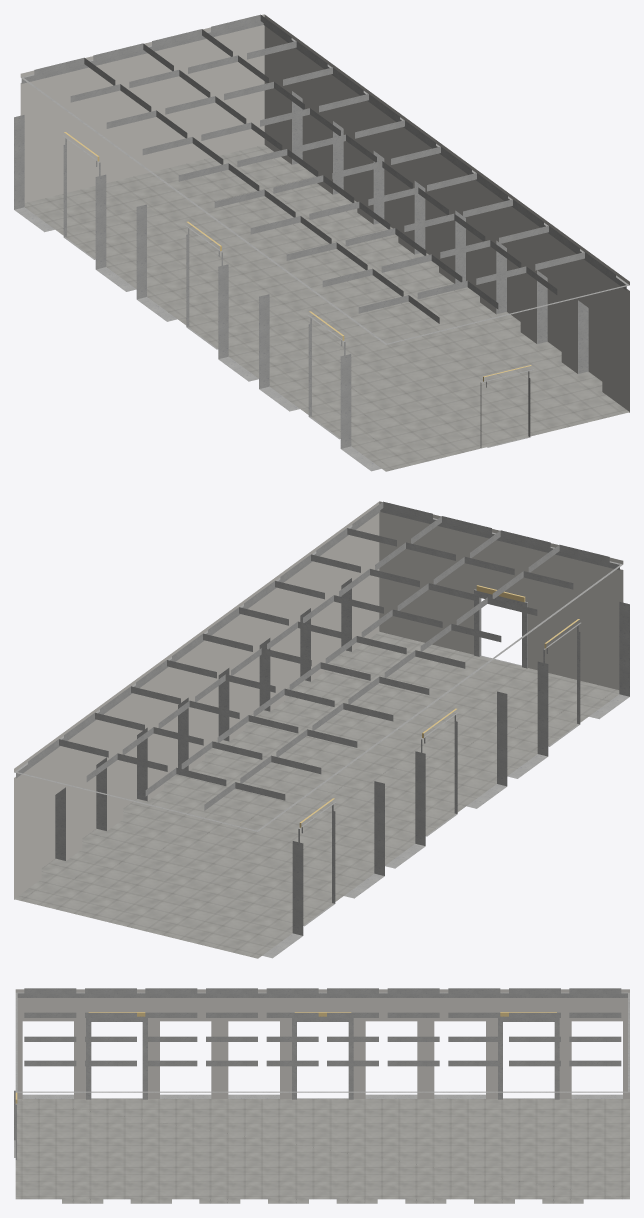
The model's file is orangery.glb.
The picture shows the model from 3 angles, top to bottom: view 1: azimuth 30°, elevation 25°; view 2: azimuth 150°, elevation 25°; view 3: azimuth 270°, elevation 25°; orthographic projection. The views are drawn at different scales.
Visible parts, largest first — view 1: orangery; view 2: orangery; view 3: orangery.
Part boxes in pixels (box(x1,y1,x2,y2)): orangery: box(14, 14, 629, 471); orangery: box(14, 501, 629, 958); orangery: box(14, 988, 629, 1203).
Size of the model in its own units: 15 by 7.4 by 35.9.
5 materials, 2 textured.
